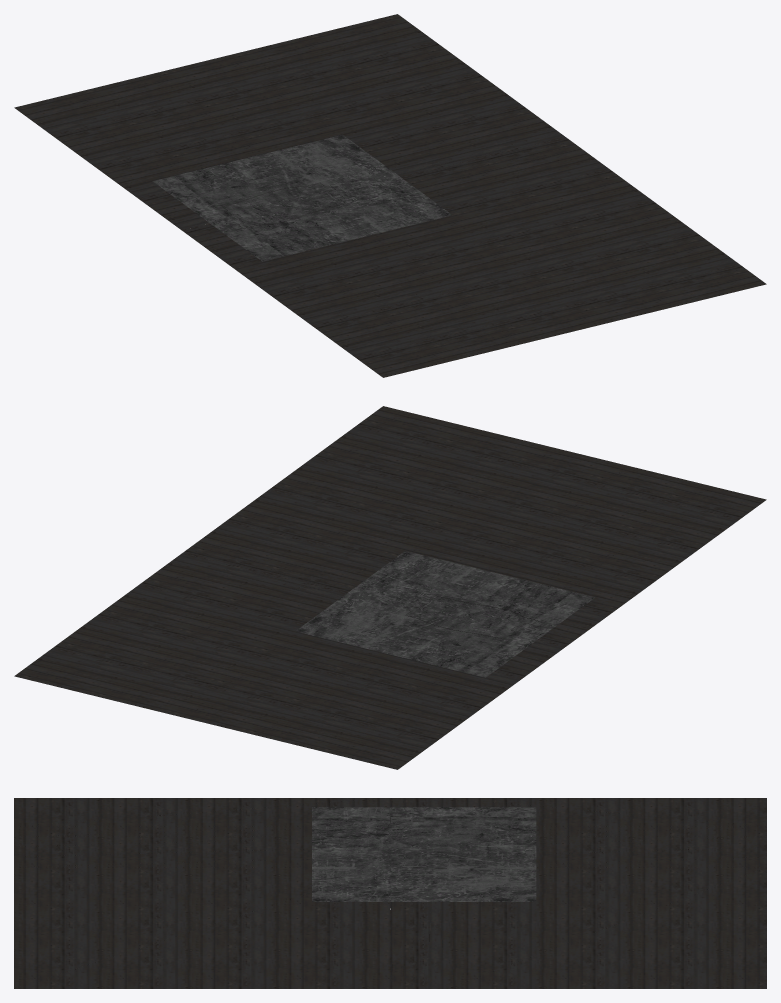
The model's file is #LVL_Ceiling_A.fbx.
3 views of the same model, one above another, from view 1: azimuth 30°, elevation 25°; view 2: azimuth 150°, elevation 25°; view 3: azimuth 270°, elevation 25° (orthographic).
Parts seen in each view (by area): view 1: Cube_038; view 2: Cube_038; view 3: Cube_038.
Part boxes in pixels (x1,y1,x2,y2): Cube_038: (14,14,766,377); Cube_038: (14,406,766,769); Cube_038: (14,798,766,988).
Size of the model in its own units: 12 by 0.344 by 20.
